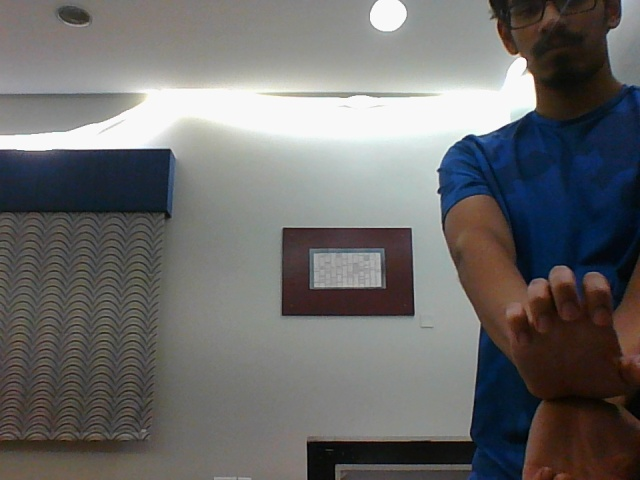blast: (491, 264, 636, 476)
